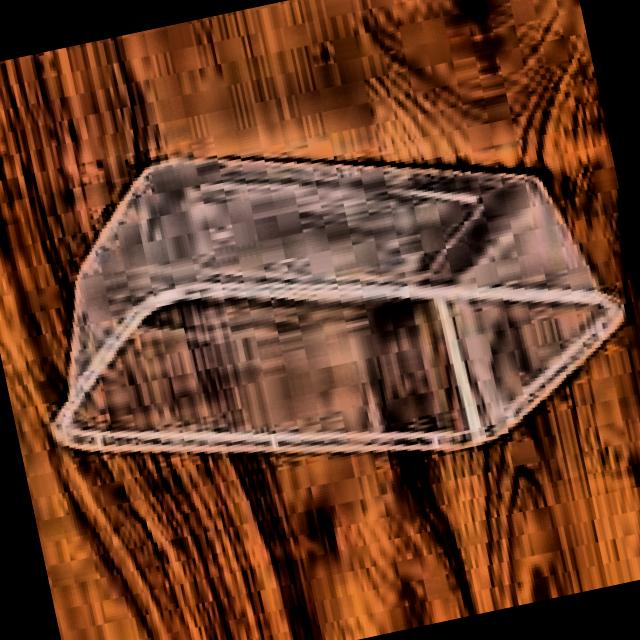plastic container: (53, 159, 622, 451)
